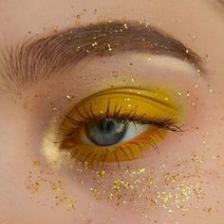yellow: (61, 88, 181, 164)
